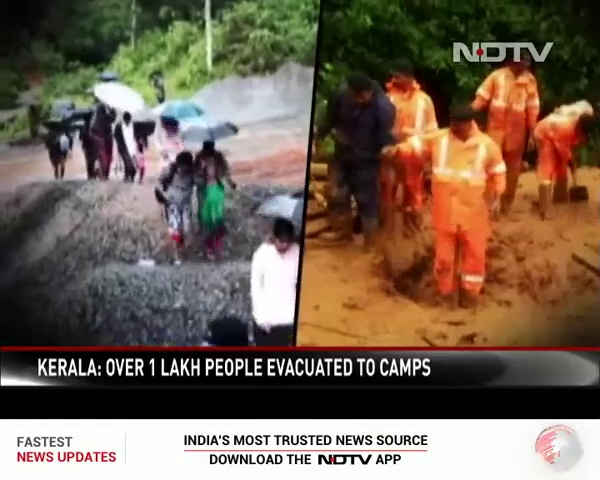person: (389, 111, 489, 298), (323, 77, 375, 245), (478, 60, 532, 212), (386, 70, 435, 236), (536, 96, 600, 203), (258, 217, 294, 349), (156, 152, 195, 268), (200, 142, 229, 266), (117, 113, 143, 180), (44, 124, 70, 178), (160, 119, 184, 166), (96, 107, 111, 178), (81, 113, 97, 175), (150, 78, 167, 102)
